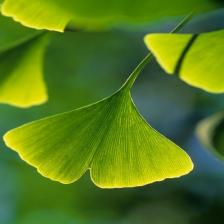green: (3, 53, 194, 189), (1, 0, 219, 32), (144, 30, 224, 93), (1, 32, 51, 108)
